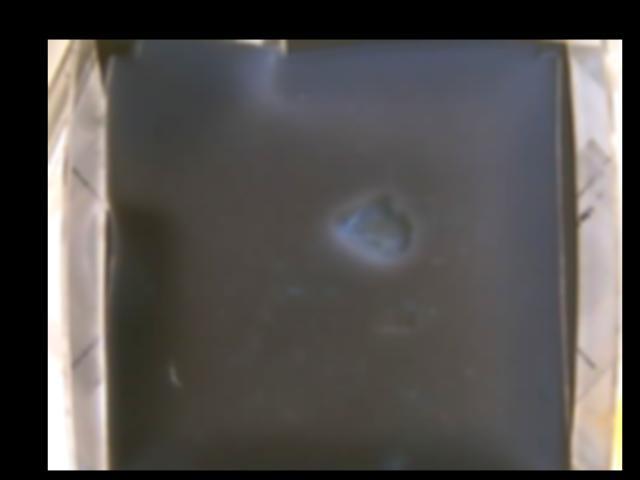Pebble: (335, 193, 415, 259)
